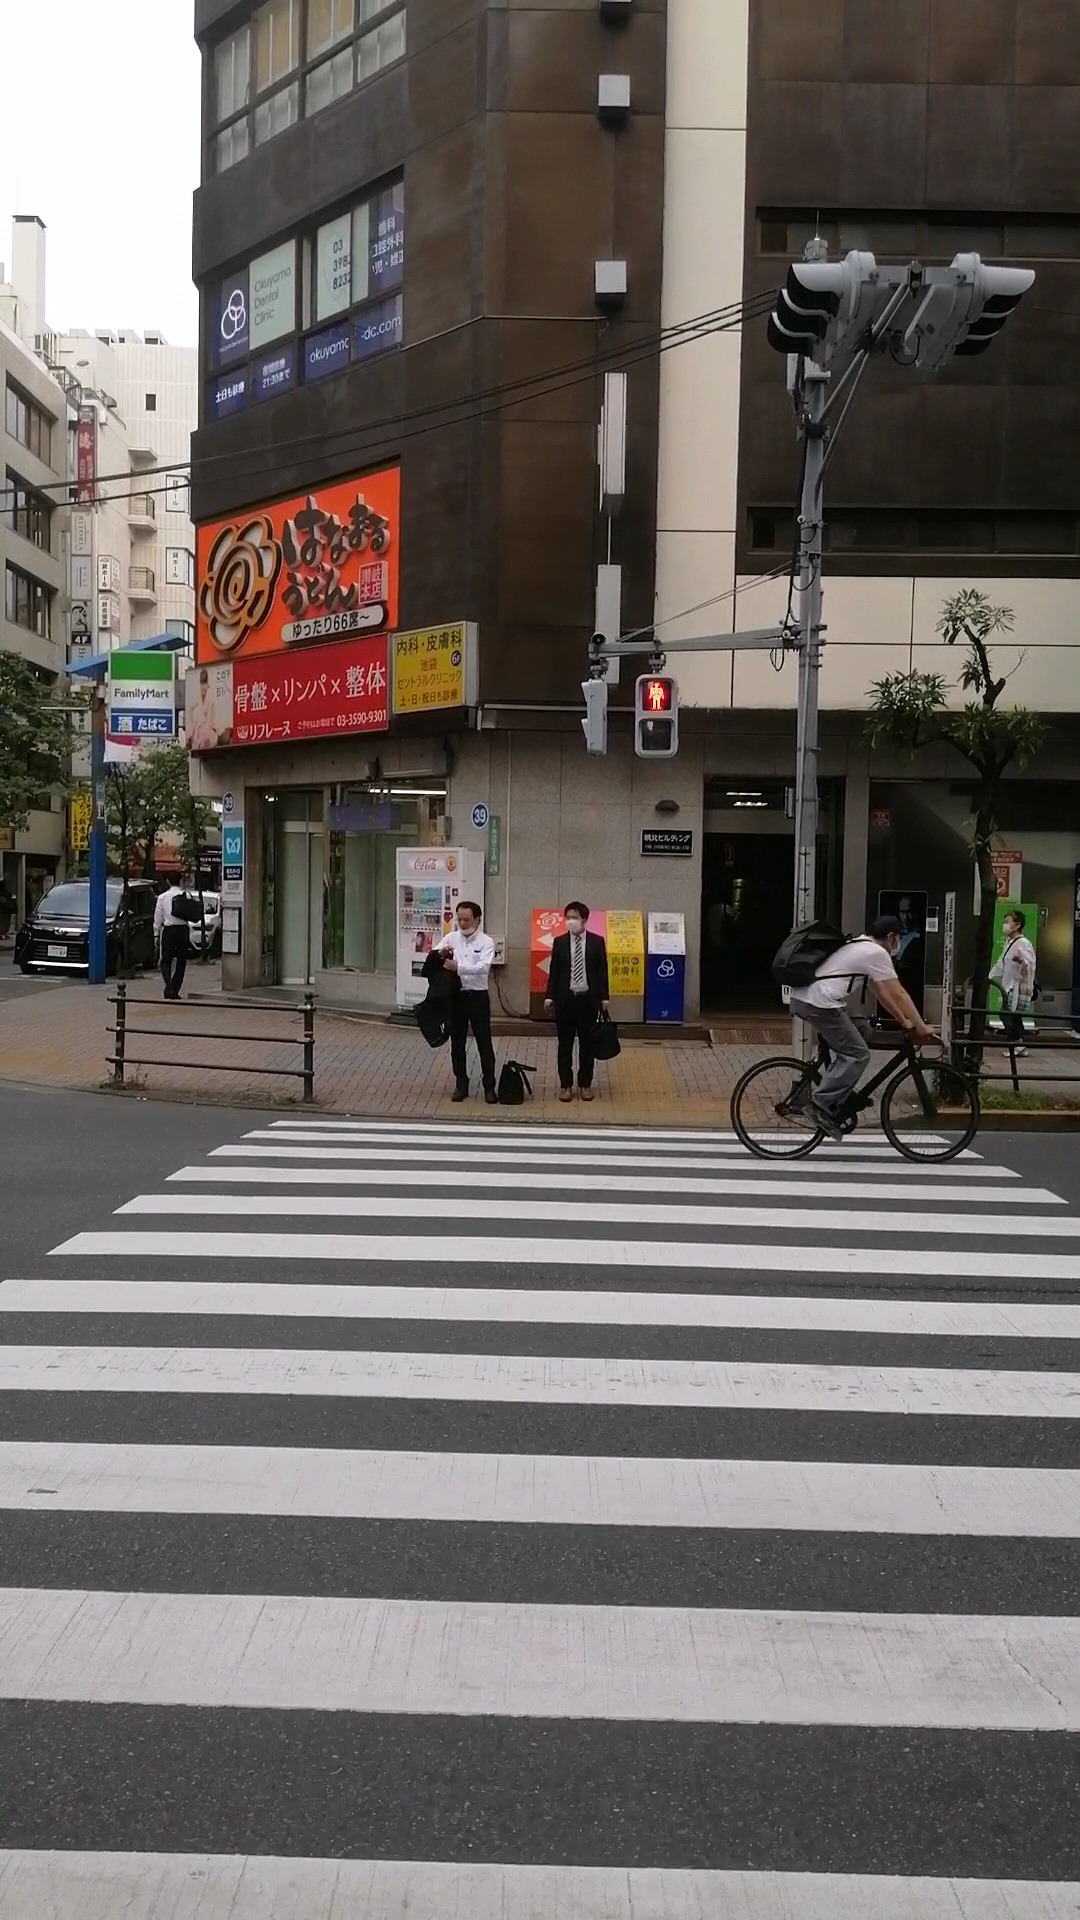red: (633, 673, 678, 754)
